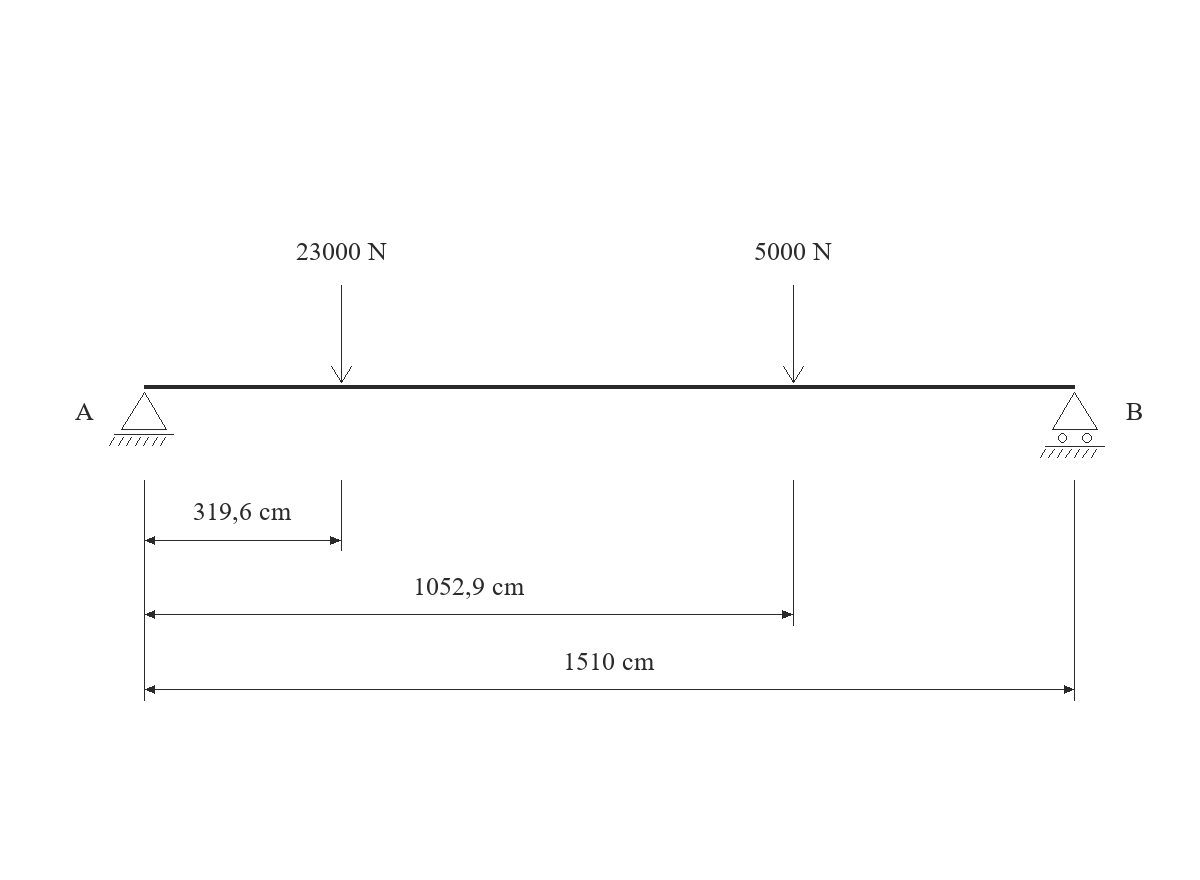pin_support: (109, 392, 174, 446)
point_load: (331, 285, 352, 383), (783, 285, 804, 383)
roller_support: (1040, 392, 1105, 458)
